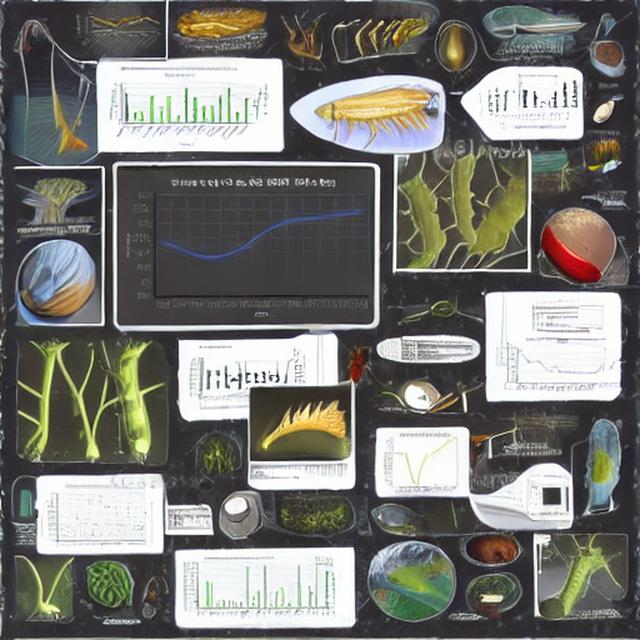Graph: (117, 171, 374, 322), (106, 63, 253, 150), (181, 554, 293, 621), (44, 485, 149, 551), (505, 336, 600, 395), (381, 429, 466, 493), (74, 2, 166, 58), (509, 72, 581, 114)
